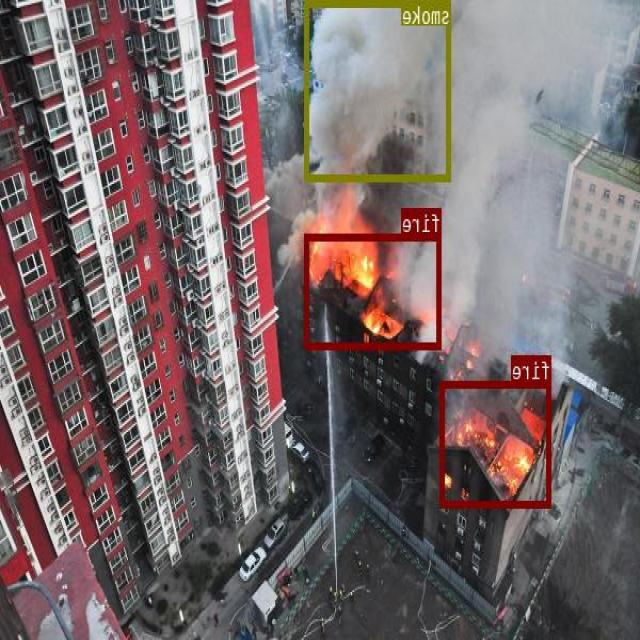fire: (306, 232, 442, 349), (441, 379, 552, 507)
smoke: (305, 0, 452, 179)
